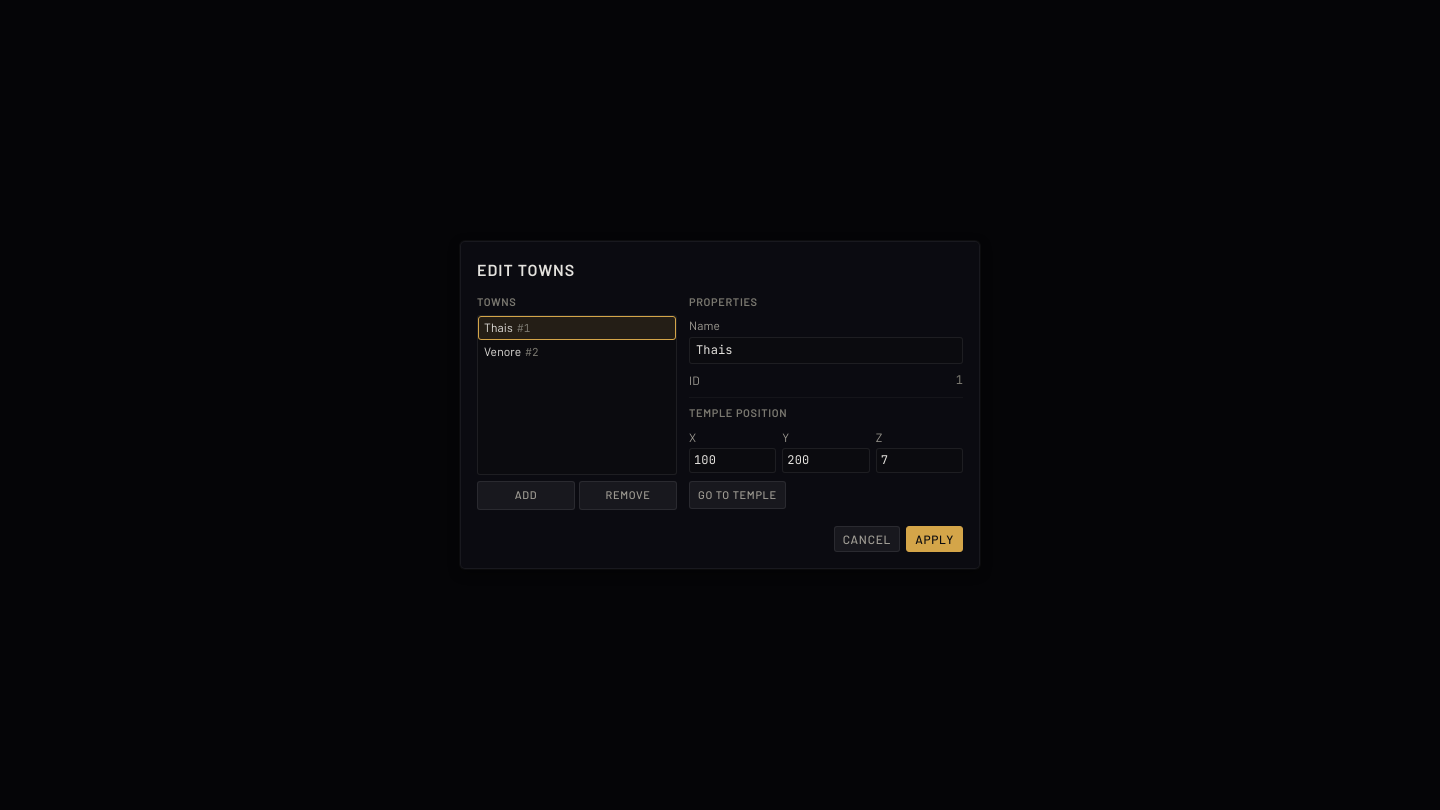
Test: EditTownsModal › delete town blocked when houses reference it
Click the button "Remove".
click(628, 496)  # box [579,481,677,510]
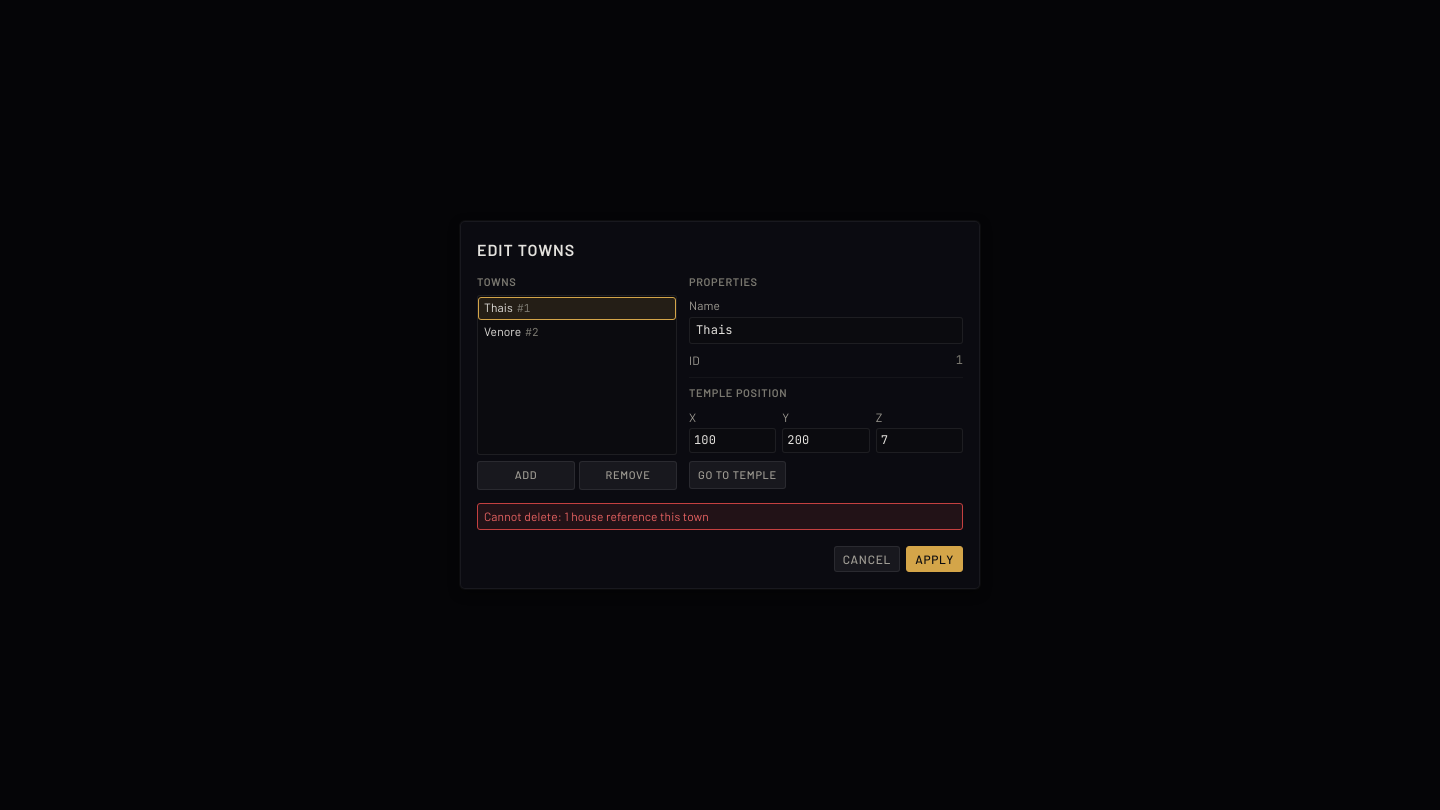
Result: the text "Cannot delete: 1 house reference this town" is shown at [477,502,963,530]
